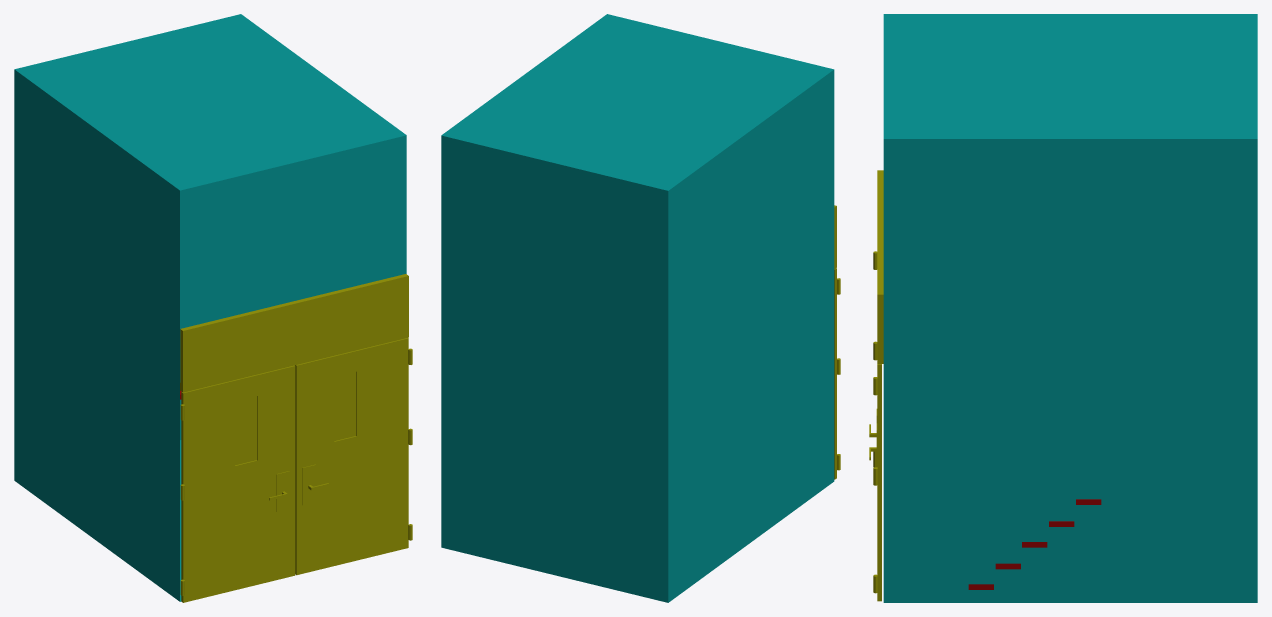
The model's file is cageEscalier.FBX.
The picture shows the model from 3 angles, left to right: view 1: azimuth 30°, elevation 25°; view 2: azimuth 150°, elevation 25°; view 3: azimuth 270°, elevation 25°; orthographic projection. The views are drawn at different scales.
Parts seen in each view (by area): view 1: Cage_escalier, porteEscalier_1, porteEscalier_2, porteEscalier_top; view 2: Cage_escalier, porteEscalier_1; view 3: Cage_escalier, porteEscalier_2, porteEscalier_top, escalier.
Boxes of the visible parts, x1,y1,x2,y2 form: Cage_escalier: (14,14,406,601); porteEscalier_1: (180,365,295,602); porteEscalier_2: (295,338,412,575); porteEscalier_top: (180,274,408,392); Cage_escalier: (441,14,834,602); porteEscalier_1: (834,268,840,479); Cage_escalier: (883,14,1257,602); porteEscalier_2: (869,364,881,601); porteEscalier_top: (877,170,883,363); escalier: (968,499,1101,589).
Bounding box in the file's own units: 107 × 182 × 138.
